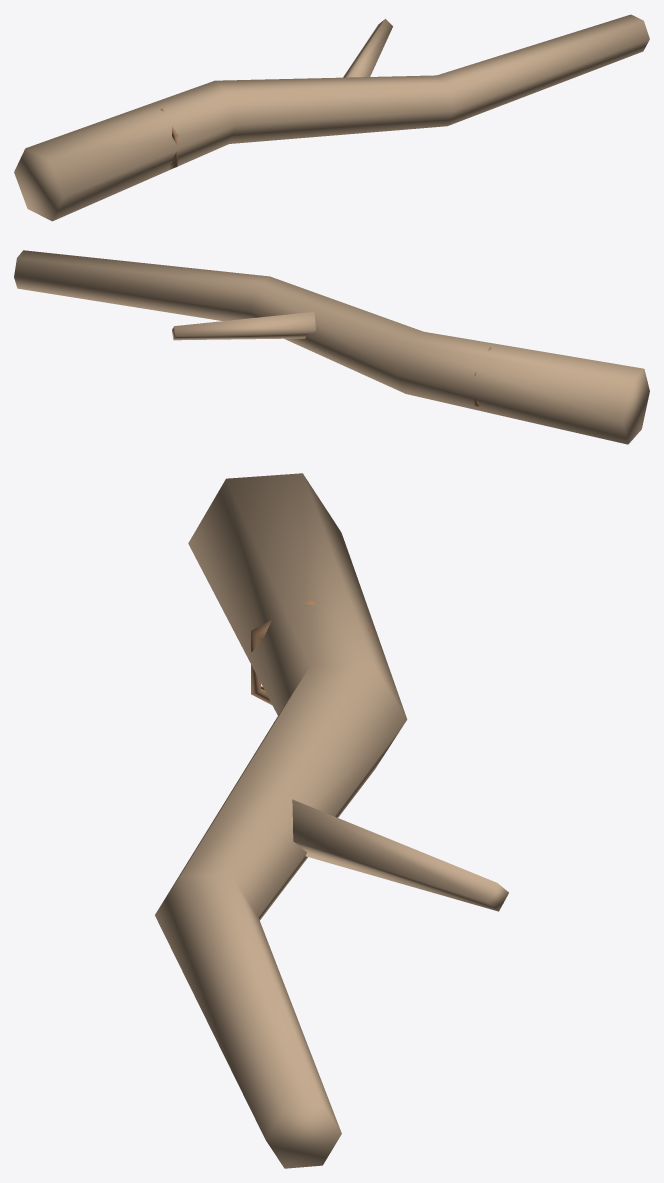
The model's file is col_driftwood.gltf.
3 renders of one model, top to bottom at view 1: azimuth 30°, elevation 25°; view 2: azimuth 150°, elevation 25°; view 3: azimuth 270°, elevation 25°, orthographic. The views are drawn at different scales.
Visible parts, largest first — view 1: col_driftwood; view 2: col_driftwood; view 3: col_driftwood.
Part boxes in pixels (<box>): col_driftwood: <box>14,14,649,221</box>; col_driftwood: <box>14,250,649,444</box>; col_driftwood: <box>155,473,508,1168</box>.
Size of what is drawn, in the model's own units: 0.3652 by 0.0373 by 0.0912.
